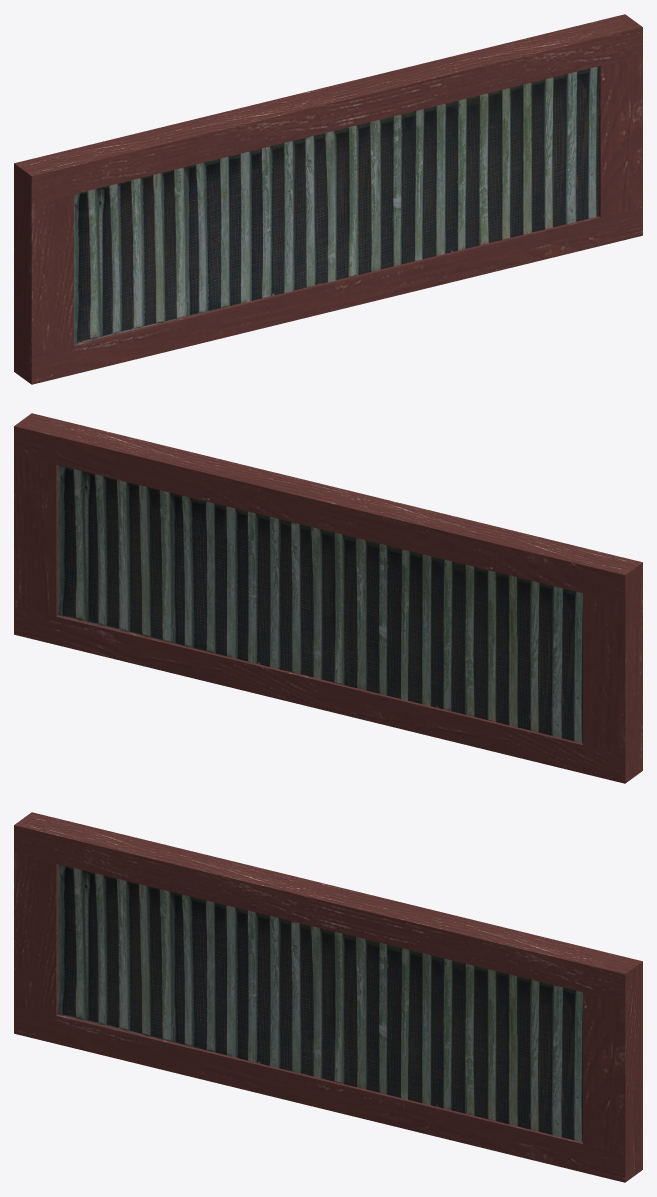
File: SM_Geumsan_Mi_Wall_K.fbx
The picture shows the model from 3 angles, top to bottom: view 1: azimuth 30°, elevation 25°; view 2: azimuth 150°, elevation 25°; view 3: azimuth 330°, elevation 25°; orthographic projection.
Visible parts, largest first — view 1: SM_Geumsan_Mi_Wall_K; view 2: SM_Geumsan_Mi_Wall_K; view 3: SM_Geumsan_Mi_Wall_K.
Part boxes in pixels (box(x1,y1,x2,y2)): SM_Geumsan_Mi_Wall_K: box(14, 14, 642, 384); SM_Geumsan_Mi_Wall_K: box(14, 413, 642, 783); SM_Geumsan_Mi_Wall_K: box(14, 812, 642, 1182).
Bounding box in the file's own units: 297 × 96.9 × 15.
